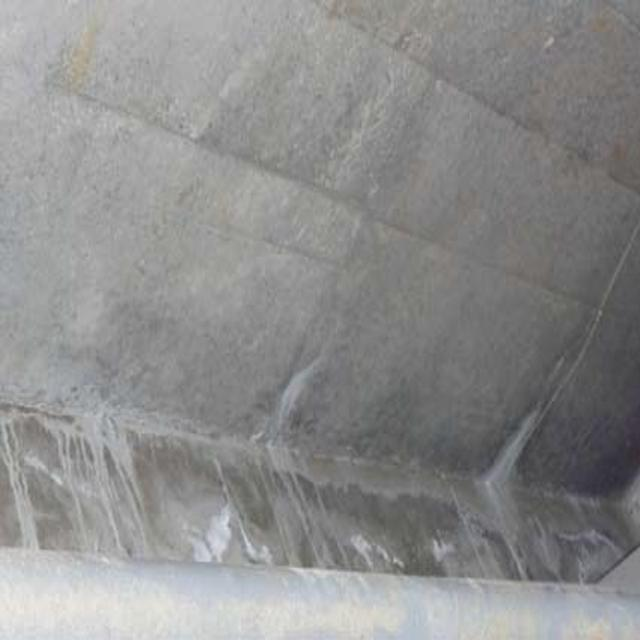freelime: (457, 407, 563, 566), (264, 348, 327, 503)
